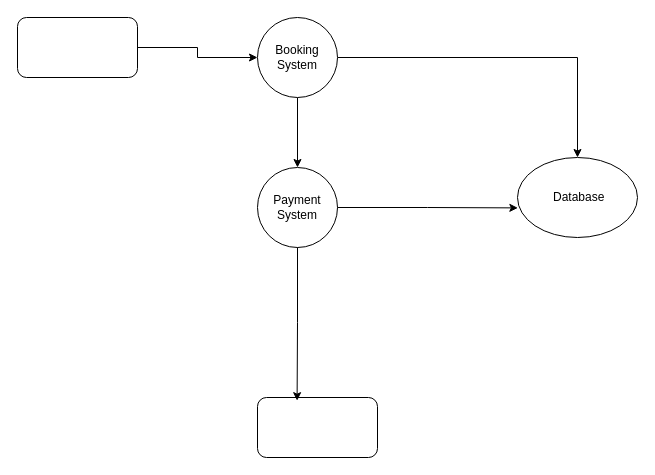
Some shapes in this 655 by 475 pixel diagram are drawn without their labels. Here are the shapes that lost their labels. From the top down, the centre of each, then its label:
(x=77, y=47): User
(x=317, y=427): Property
